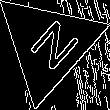N_SW: (17, 12, 79, 77)
